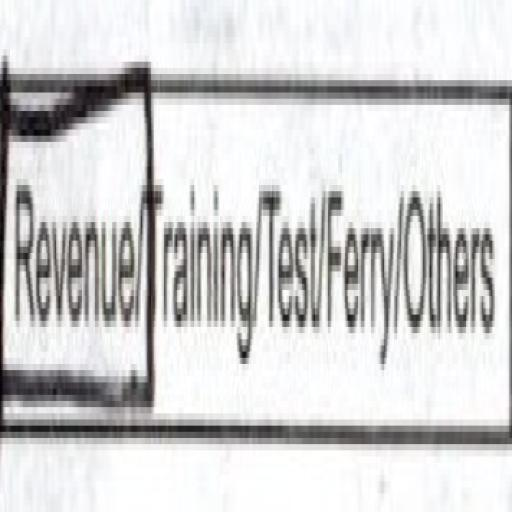check: (0, 48, 154, 450)
